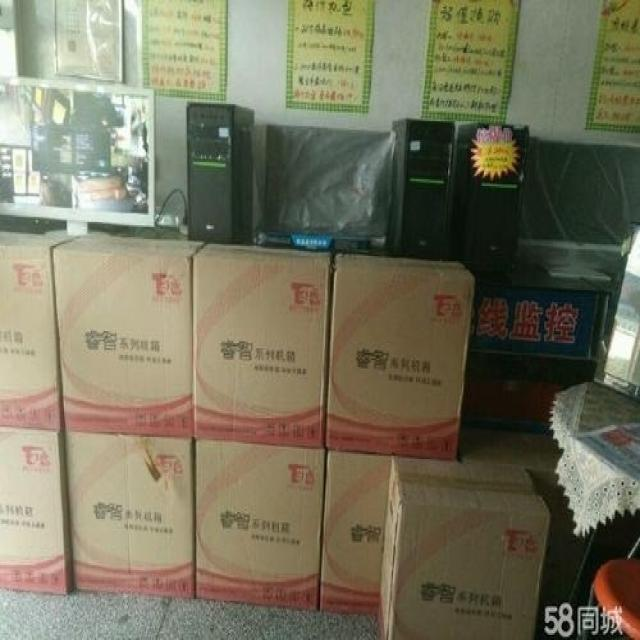box: (379, 457, 553, 640), (326, 251, 475, 461), (54, 232, 205, 437), (195, 242, 332, 447), (193, 439, 328, 611), (61, 432, 195, 601), (0, 230, 82, 428), (0, 427, 74, 594), (320, 447, 390, 613)
